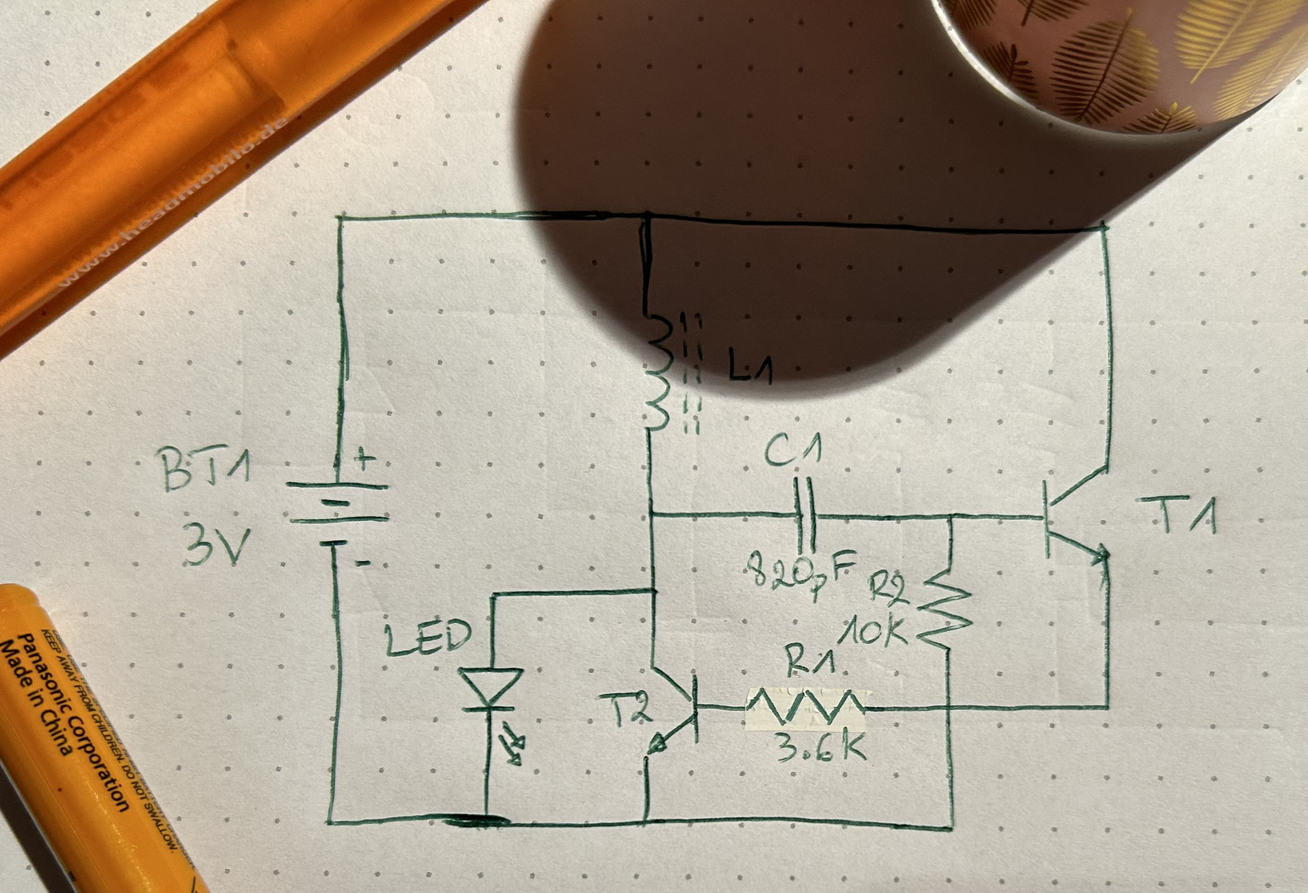capacitor.unpolarized: (788, 469, 825, 558)
crossover: (939, 697, 958, 716)
diode.light_emitting: (454, 661, 534, 766)
inductor: (637, 304, 704, 441)
junction: (634, 204, 660, 227), (940, 507, 961, 527), (1093, 217, 1112, 237), (476, 807, 496, 826), (331, 209, 350, 227), (321, 813, 339, 831), (1098, 696, 1115, 715), (646, 582, 663, 600), (941, 819, 958, 837), (636, 812, 653, 829), (642, 506, 659, 523), (486, 588, 501, 603)
resistor: (736, 681, 876, 727), (913, 564, 975, 654)
text: (740, 548, 855, 602), (148, 440, 254, 493), (381, 612, 476, 662), (179, 518, 254, 572), (771, 727, 872, 767), (1137, 491, 1222, 537), (834, 610, 909, 651), (593, 689, 662, 730), (763, 428, 825, 469), (781, 639, 839, 678), (724, 344, 776, 386), (865, 564, 911, 611)
transistor.bjt: (1034, 460, 1121, 570), (627, 658, 707, 760)
voltage.battery: (283, 448, 395, 572)
